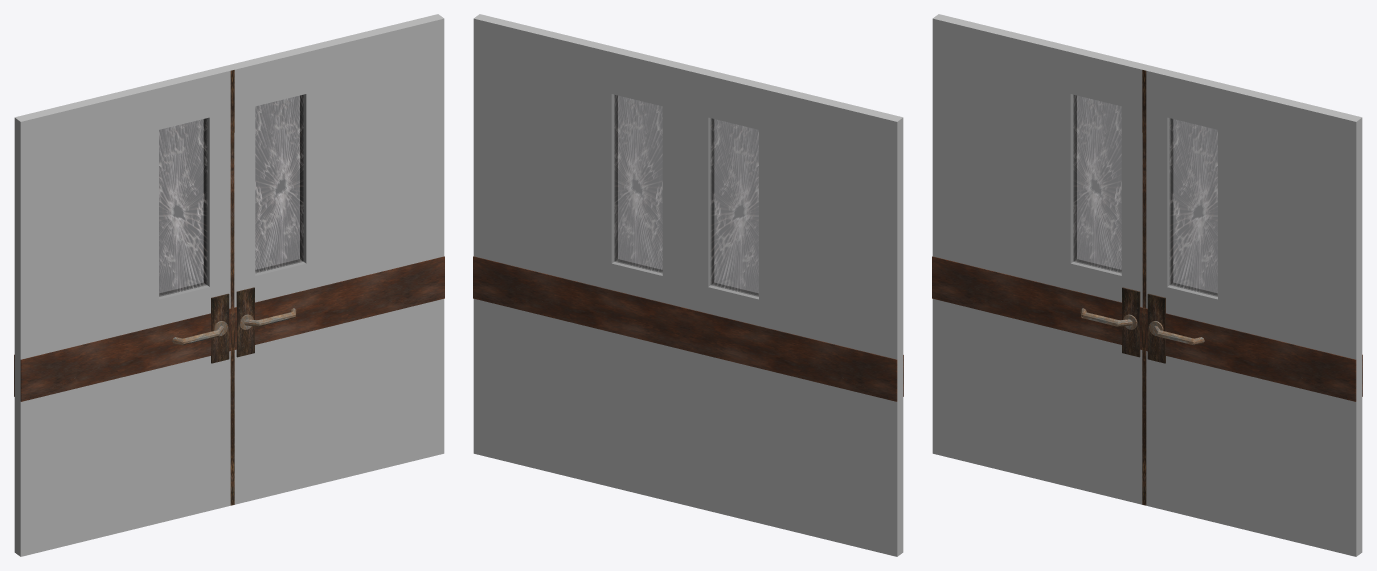
File: DoorModel2.fbx
The picture shows the model from 3 angles, left to right: view 1: azimuth 30°, elevation 25°; view 2: azimuth 150°, elevation 25°; view 3: azimuth 330°, elevation 25°; orthographic projection.
Parts seen in each view (by area): view 1: pCube9; view 2: pCube9; view 3: pCube9.
Boxes of the visible parts, x1,y1,x2,y2 form: pCube9: [14, 14, 444, 556]; pCube9: [473, 14, 903, 556]; pCube9: [932, 14, 1362, 556].
Size of the model in its own units: 16 by 15.69 by 0.8909.
